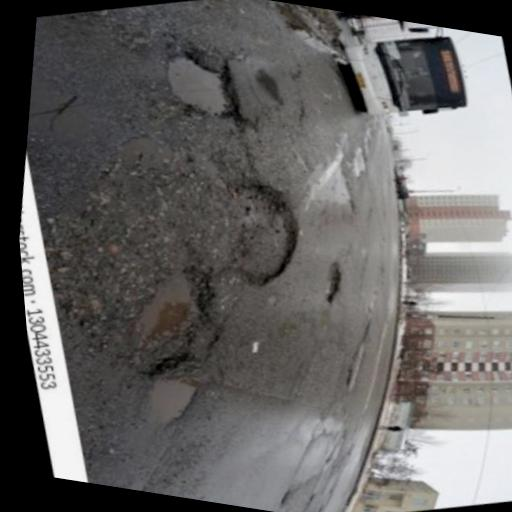pothole: (225, 184, 299, 285), (131, 265, 211, 346), (165, 44, 241, 123), (324, 260, 342, 304)
